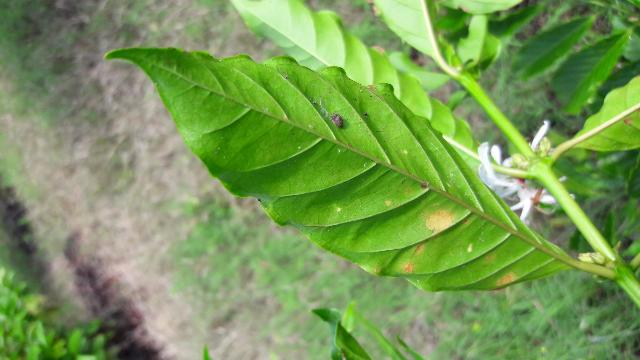rust_level_1: (108, 50, 569, 291)
